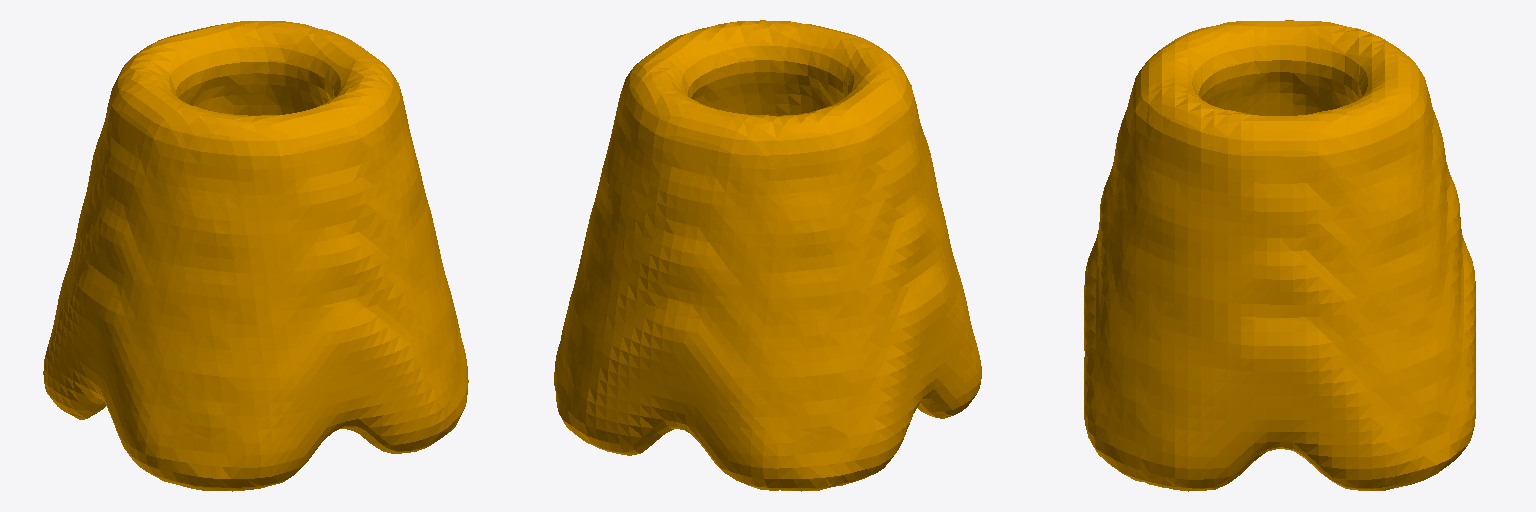
URDF robot description (object):
<?xml version="1.0"?>
        <robot name="object">
          <link name="object">
            <visual>
              <origin xyz="0.0 0.0 0.0"/>
              <geometry>
                <mesh filename="B1.stl" scale="1.00 1.00 1.00"/>
              </geometry>
            </visual>
            <collision>
              <origin xyz="0.0 0.0 0.0"/>
              <geometry>
                <mesh filename="B1.stl" scale="1.00 1.00 1.00"/>
              </geometry>
            </collision>
          </link>
        </robot>

--- Facts derived from the render (not from the file) ---
The picture shows the robot from 3 angles, left to right: view 1: azimuth 30°, elevation 25°; view 2: azimuth 150°, elevation 25°; view 3: azimuth 270°, elevation 25°; orthographic projection.
Model object with 1 links and 0 joints (none), rooted at object, posed every joint at zero.
Visible links, largest first — view 1: object; view 2: object; view 3: object.
Boxes of the visible links, x1=… form: object: x1=43, y1=21, x2=468, y2=491; object: x1=554, y1=20, x2=981, y2=491; object: x1=1084, y1=20, x2=1475, y2=491.
Size in the robot's own frame: 0.1 by 0.0999 by 0.0995 metres.
Meshes: 1 distinct files referenced, 1 mesh visuals loaded (1 binary STL).